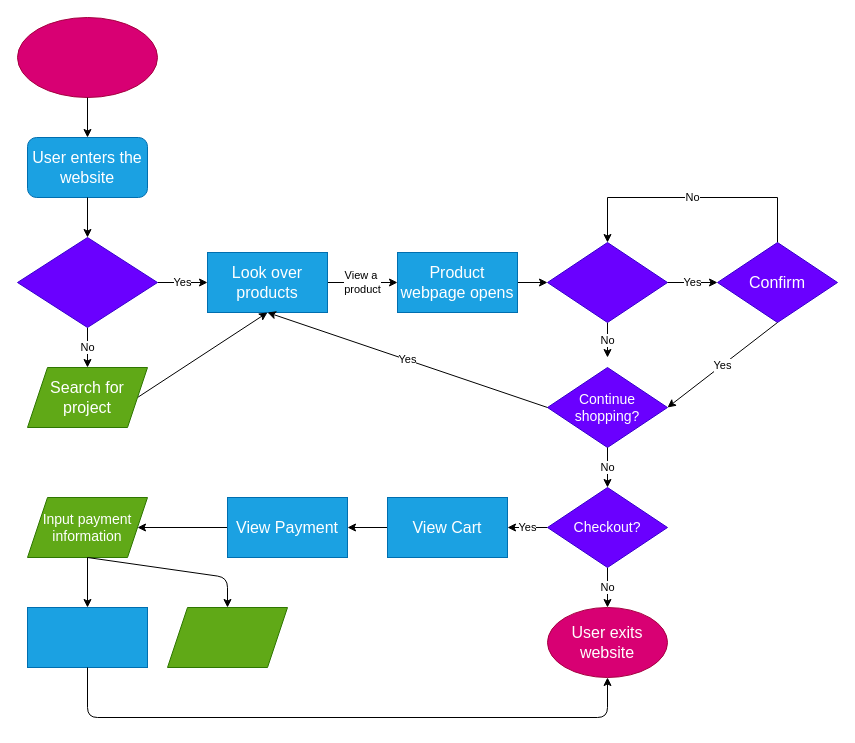
The diagram is 855 pixels wide and 743 high, and some of its shapes have lost their labels. The centre of each missing label's shape, as x and y in pixels:
Add item to Cart?: (607,282)
Confirmation email sent: (227,637)
Explore home page?: (87,282)
Order Confirmation: (87,637)
Start: (87,57)
